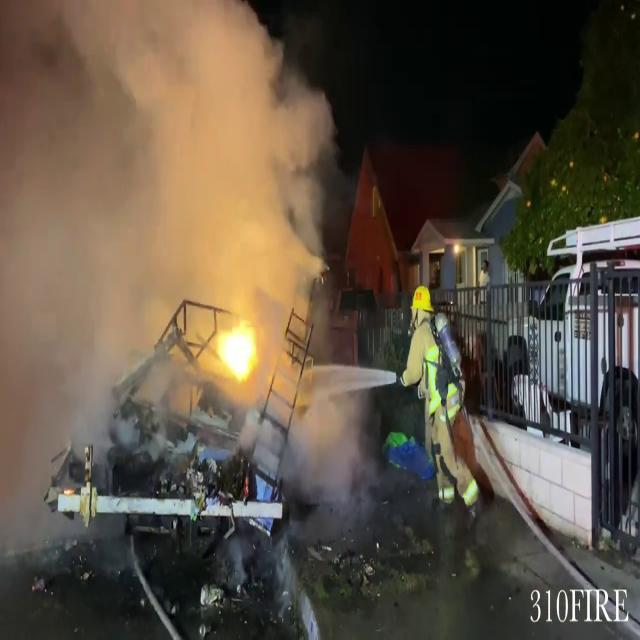Fire: (206, 311, 264, 386)
Smoke: (0, 0, 344, 527), (0, 1, 342, 310)
